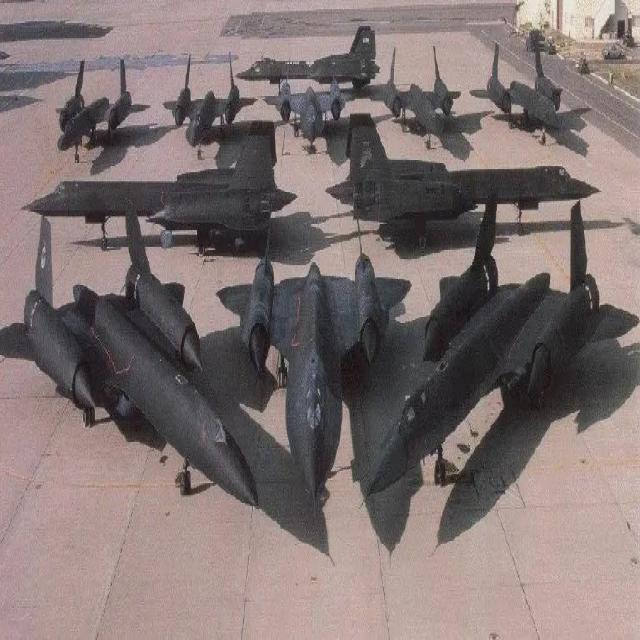MIL_Plane: (358, 193, 640, 509), (1, 209, 262, 515), (216, 202, 411, 520), (325, 113, 602, 251), (20, 120, 298, 253), (233, 24, 380, 94), (162, 50, 257, 158), (54, 57, 150, 162), (469, 41, 563, 145), (369, 46, 462, 149), (264, 49, 355, 152)
